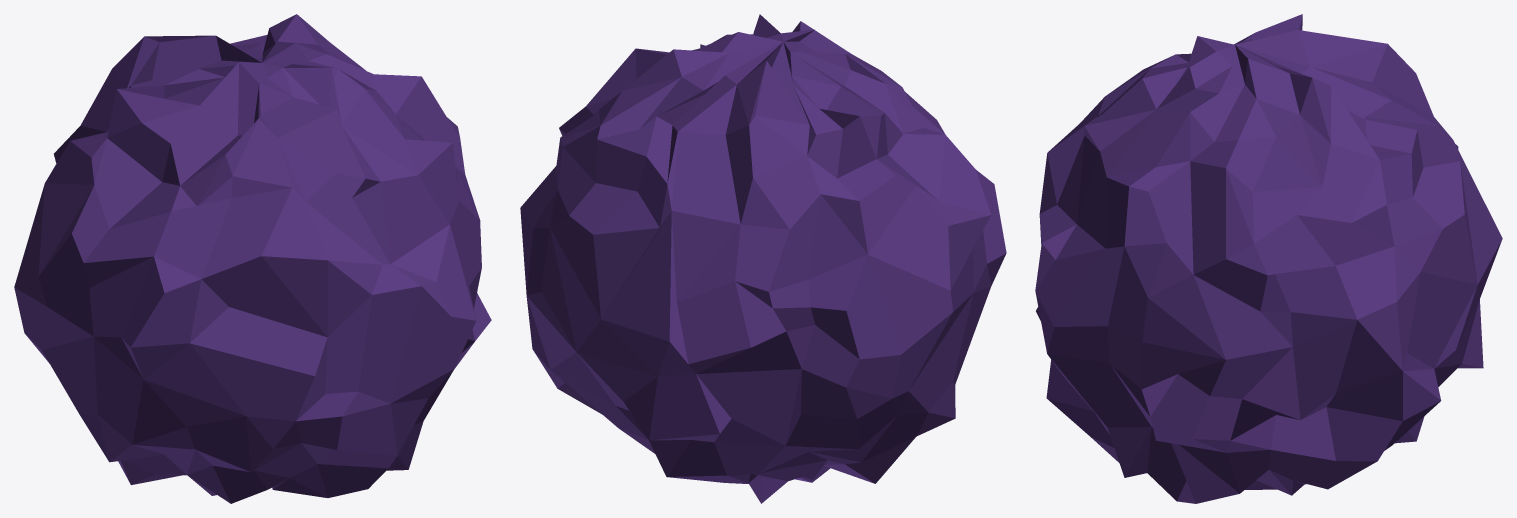
File: sphere_rough.fbx
The picture shows the model from 3 angles, left to right: view 1: azimuth 30°, elevation 25°; view 2: azimuth 150°, elevation 25°; view 3: azimuth 270°, elevation 25°; orthographic projection.
Parts seen in each view (by area): view 1: Sphere; view 2: Sphere; view 3: Sphere.
Part boxes in pixels (x1=…): Sphere: x1=14, y1=14, x2=491, y2=503; Sphere: x1=520, y1=14, x2=1006, y2=503; Sphere: x1=1035, y1=14, x2=1502, y2=503.
Size of the model in its own units: 114 by 117 by 113.
